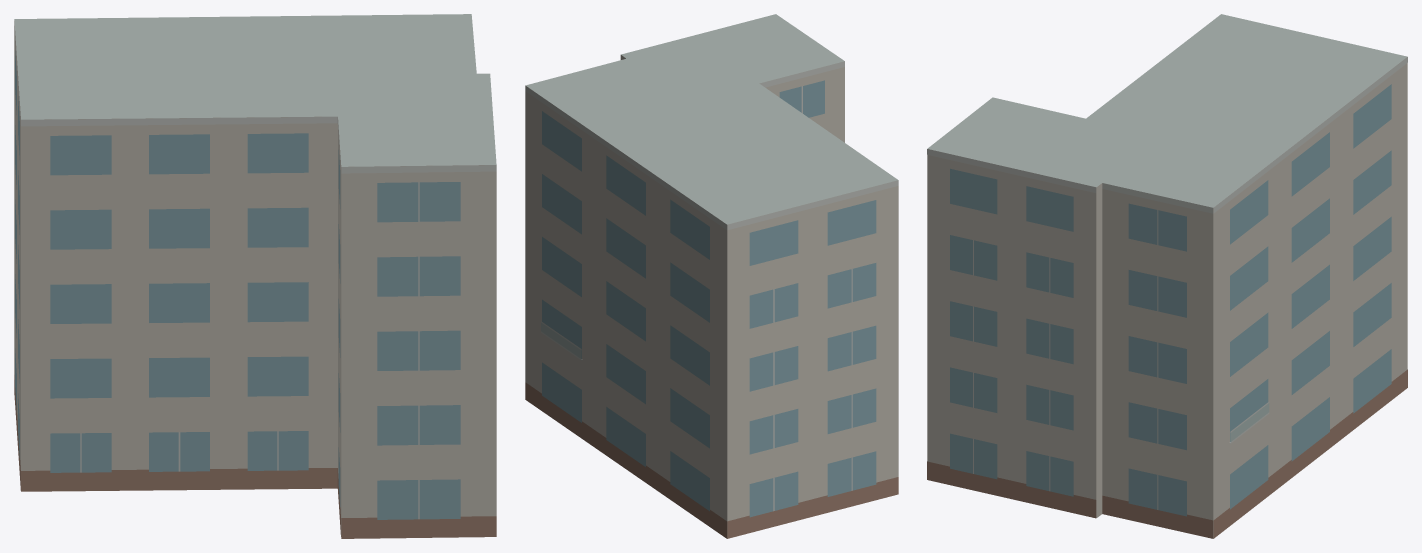
File: survey-upis-32519298.glb
3 renders of one model, left to right at view 1: azimuth 30°, elevation 25°; view 2: azimuth 150°, elevation 25°; view 3: azimuth 270°, elevation 25°, orthographic. The views are drawn at different scales.
Visible parts, largest first — view 1: survey-upis-32519298.tmp; view 2: survey-upis-32519298.tmp; view 3: survey-upis-32519298.tmp.
Boxes of the visible parts, x1,y1,x2,y2 form: survey-upis-32519298.tmp: (14,14,496,538); survey-upis-32519298.tmp: (525,14,898,538); survey-upis-32519298.tmp: (927,14,1407,538).
Bounding box in the file's own units: 16.96 × 13.5 × 17.77.
